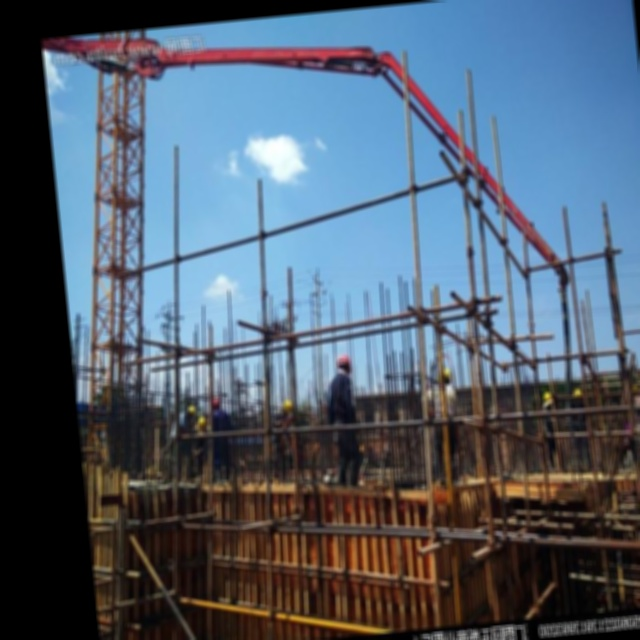Con_Casco: (336, 354, 352, 373), (438, 368, 452, 385)
